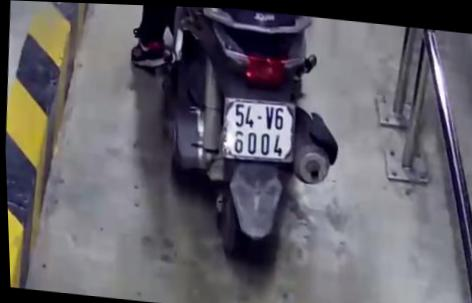LP: (217, 91, 300, 165)
